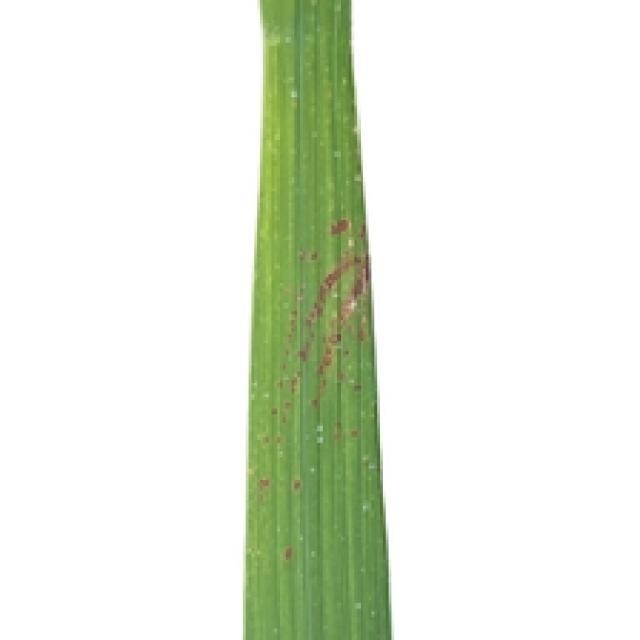Rice___Brown_Spot: (243, 0, 393, 637)
